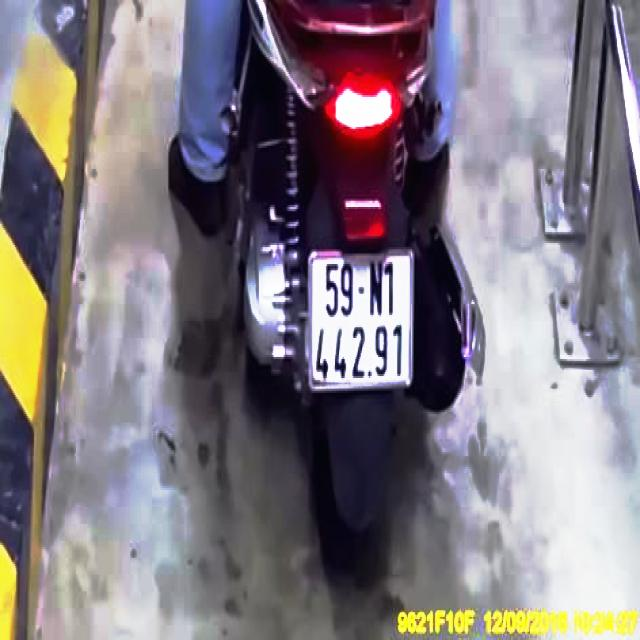license_plate: (309, 258, 413, 391)
